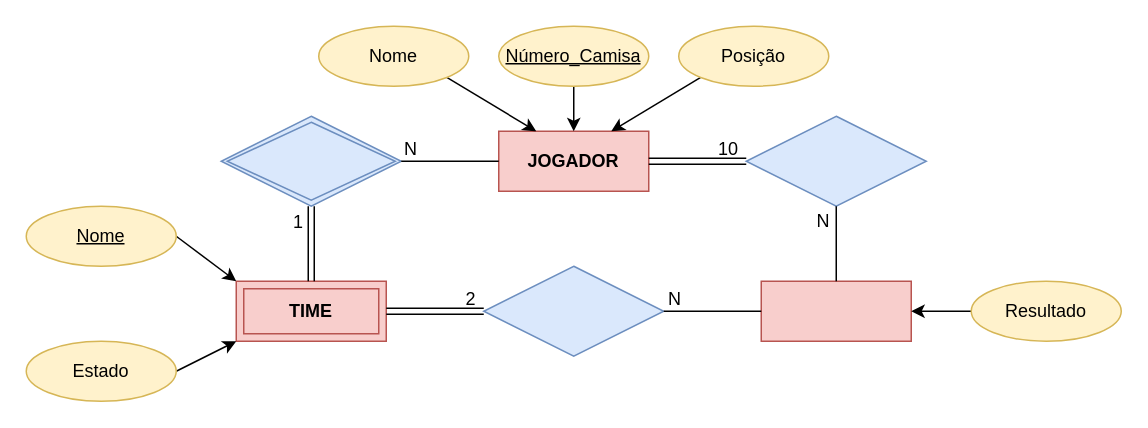
Some shapes in this 1148 by 428 pixel diagram are drawn without their labels. Here are the shapes that lost their labels. From the top down, the box of each, then its label:
(220, 115, 401, 206): Joga Em
(745, 115, 926, 206): Participou
(482, 265, 664, 356): Jogou No
(760, 280, 911, 341): JOGO
